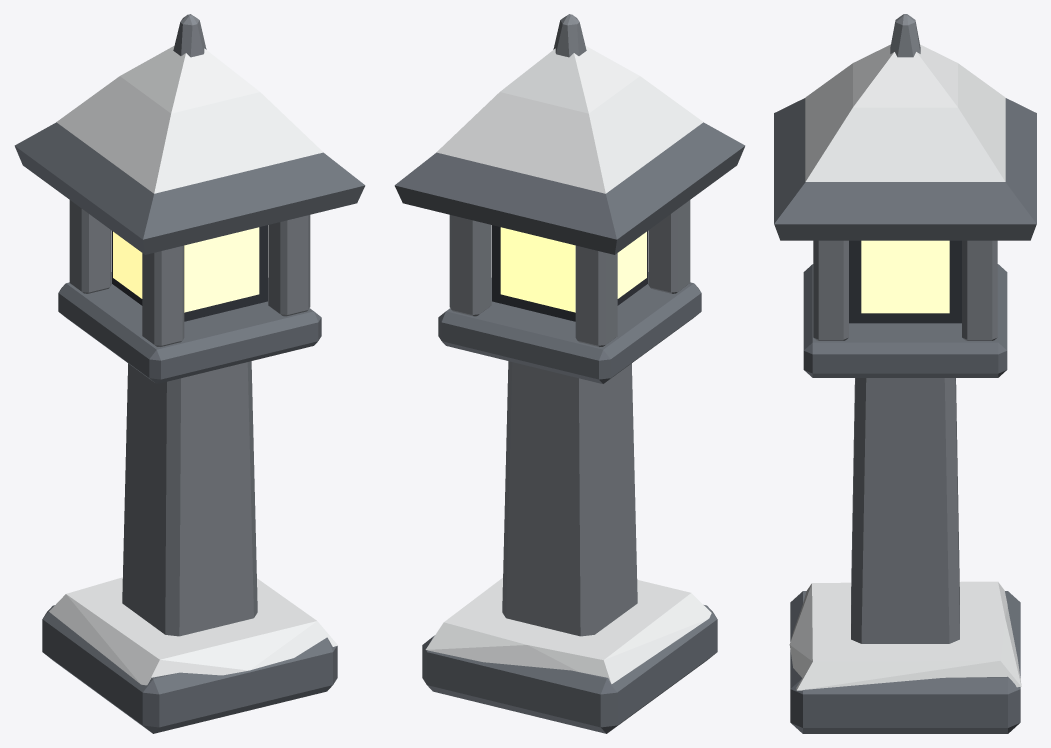
File: Snow_Lamp.fbx
3 views of the same model, side by side, from view 1: azimuth 30°, elevation 25°; view 2: azimuth 150°, elevation 25°; view 3: azimuth 270°, elevation 25° (orthographic). The views are drawn at different scales.
Parts seen in each view (by area): view 1: Stone, Stone2, Snow, Glow, Dark; view 2: Stone, Stone2, Snow, Glow, Dark; view 3: Stone, Snow, Stone2, Glow, Dark.
Part boxes in pixels (x1,y1,x2,y2): Stone: (14,122,365,733); Stone2: (69,14,310,636); Snow: (49,45,337,685); Glow: (113,227,259,312); Dark: (112,225,267,321); Stone: (394,122,745,733); Stone2: (449,14,690,636); Snow: (425,45,711,683); Glow: (500,227,646,312); Dark: (492,225,647,321); Stone: (774,98,1036,733); Snow: (789,44,1021,690); Stone2: (813,14,997,643); Glow: (861,240,949,313); Dark: (849,240,961,323).
Size of the model in its own units: 1.48 by 4.21 by 1.48.
